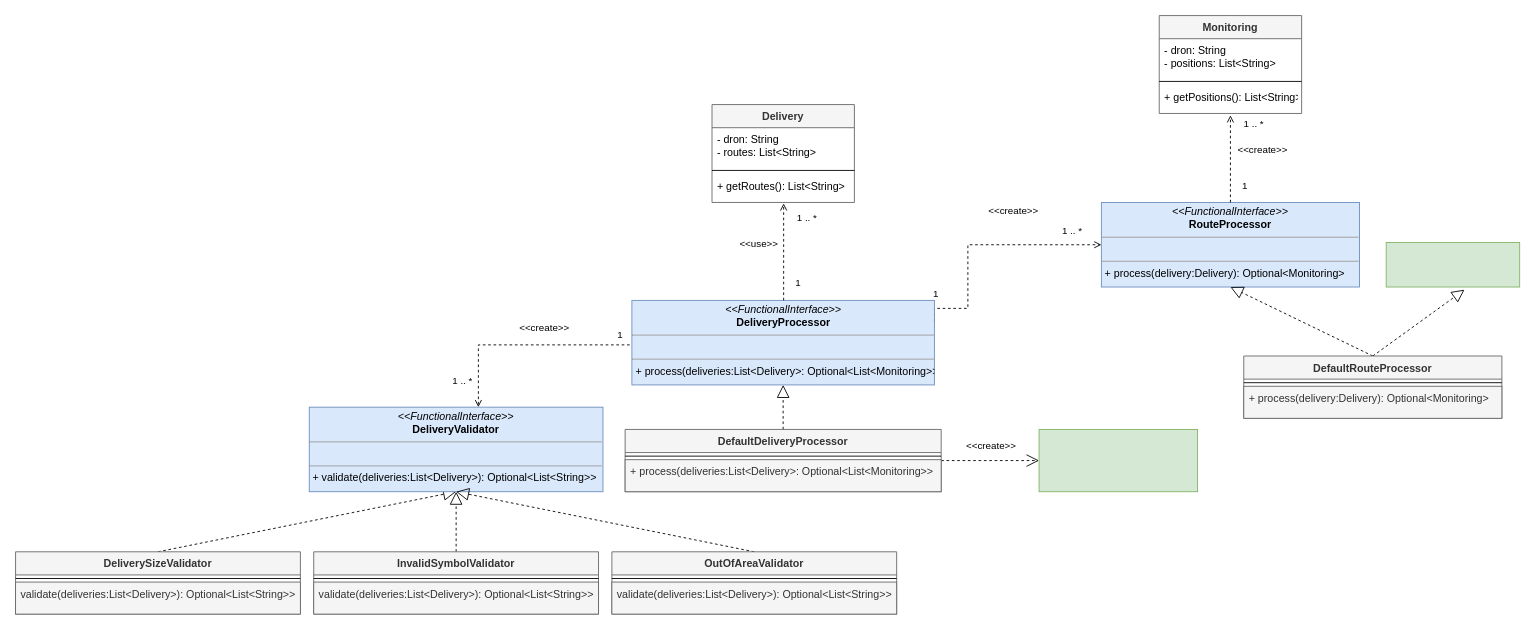
The diagram is 1535 pixels wide and 632 high, and some of its shapes have lost their labels. Here are the shapes that lost their labels. From the top down, the centre of each, then its label:
At (x=1452, y=264): "«interface» java.util.concurrent Callable".
At (x=1118, y=460): "«interface» java.util.concurrent ExecutorService".
